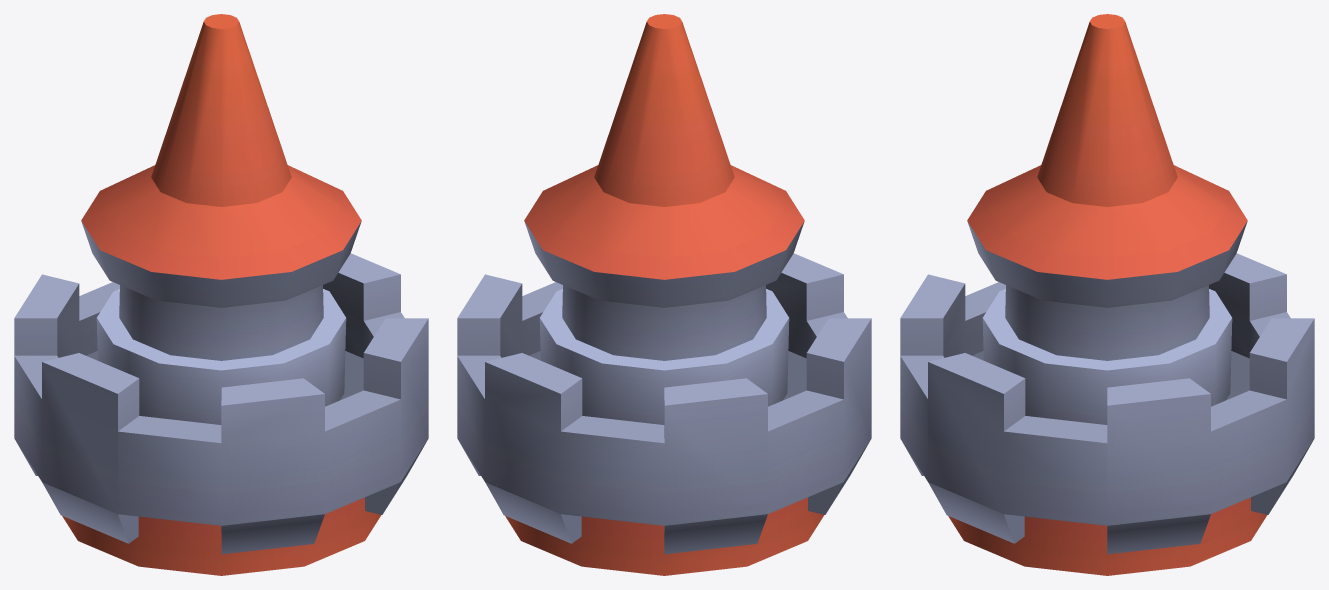
The model's file is kenney-tower-defense-tower-round-roof-b.glb.
3 views of the same model, side by side, from view 1: azimuth 30°, elevation 25°; view 2: azimuth 150°, elevation 25°; view 3: azimuth 270°, elevation 25° (orthographic).
Parts seen in each view (by area): view 1: tower-round-roof-b; view 2: tower-round-roof-b; view 3: tower-round-roof-b.
Boxes of the visible parts, x1,y1,x2,y2 form: tower-round-roof-b: (14,14,428,575); tower-round-roof-b: (457,14,871,575); tower-round-roof-b: (900,14,1314,575).
Bounding box in the file's own units: 1 × 1.29 × 1.
1 material, 1 textured.
